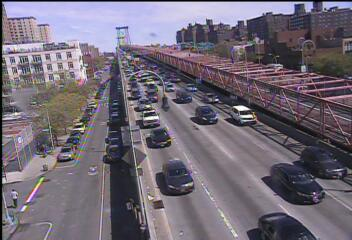neg: (68, 68, 78, 82), (334, 13, 344, 27), (228, 50, 238, 64), (170, 41, 177, 51), (183, 41, 189, 50)
pos: (5, 187, 21, 208), (36, 142, 48, 159)
